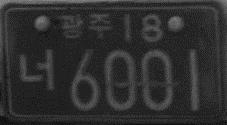0: (104, 49, 138, 112), (141, 50, 175, 112)
1: (187, 46, 203, 113), (122, 11, 133, 44)
6: (69, 49, 100, 111)
8: (140, 13, 163, 44)
광주_O: (59, 12, 112, 41)
너: (17, 47, 55, 91)
